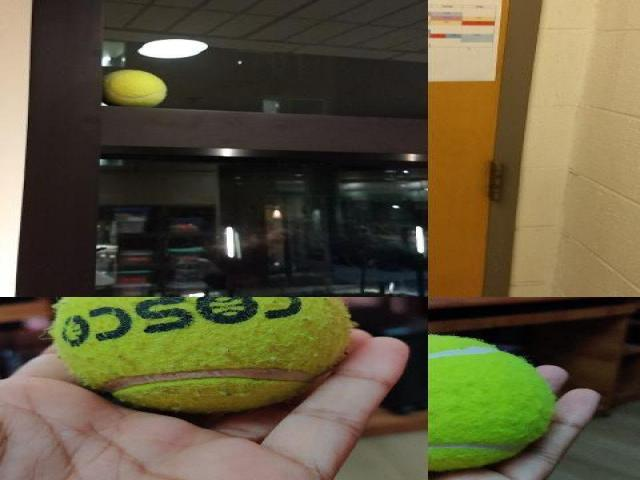tennis-ball: (50, 297, 354, 413), (428, 335, 556, 471), (104, 69, 168, 106)
